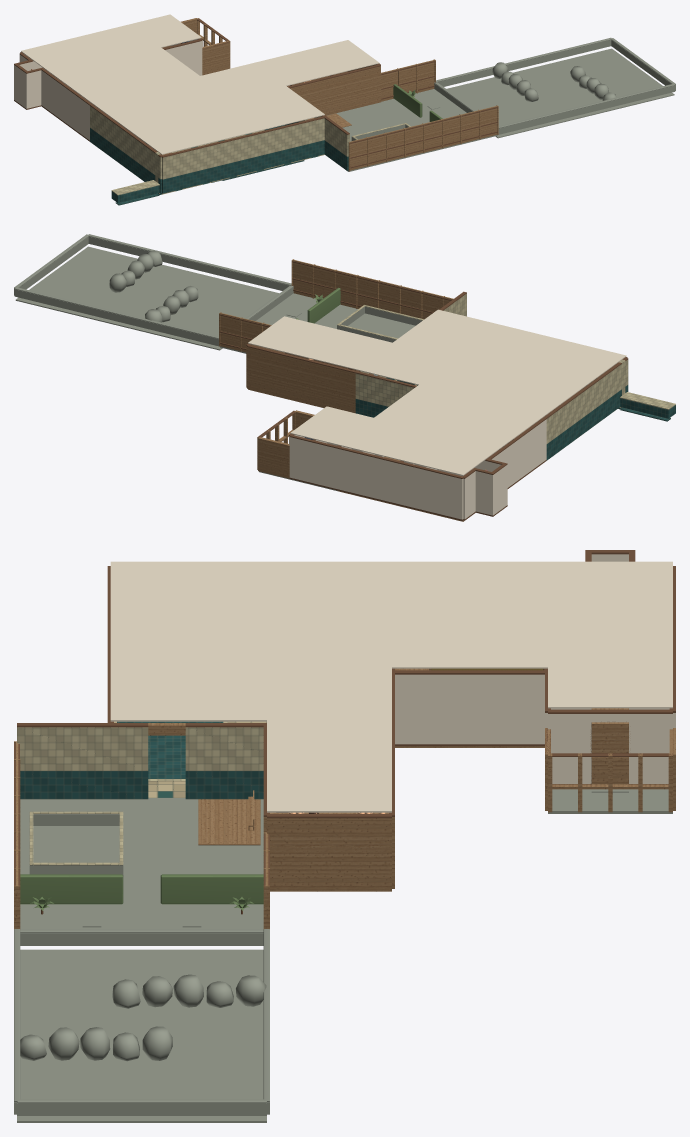
The model's file is sento_environment__growth_v02.glb.
3 renders of one model, top to bottom at view 1: azimuth 30°, elevation 25°; view 2: azimuth 150°, elevation 25°; view 3: azimuth 270°, elevation 25°, orthographic. The views are drawn at different scales.
Visible parts, largest first — view 1: environment_ceiling__warm_plaster, environment_static__garden_stone, environment_upper__ceramic_cream, environment_upper__cedar, environment_static__ceramic_teal, environment_static__cedar, environment_upper__warm_plaster, environment_upper__dark_cedar, environment_static__warm_plaster, environment_static__dark_cedar, growth_fixed_upper__cedar, environment_static__sage_foliage (+3 smaller); view 2: environment_ceiling__warm_plaster, environment_static__garden_stone, environment_upper__warm_plaster, environment_upper__cedar, environment_static__cedar, environment_static__warm_plaster, environment_upper__ceramic_cream, environment_upper__dark_cedar, environment_static__ceramic_teal, growth_fixed_upper__cedar, environment_static__dark_cedar, environment_static__sage_foliage (+2 smaller); view 3: environment_ceiling__warm_plaster, environment_static__garden_stone, environment_upper__warm_plaster, environment_upper__ceramic_cream, environment_static__ceramic_teal, environment_static__cedar, environment_upper__cedar, environment_static__sage_foliage, environment_upper__dark_cedar, environment_static__warm_plaster, growth_fixed_static__garden_stone, growth_fixed_static__cedar (+4 smaller).
Part boxes in pixels (x1,y1,x2,y2): environment_ceiling__warm_plaster: (21,14,379,154); environment_static__garden_stone: (327,37,675,171); environment_upper__ceramic_cream: (90,106,349,179); environment_upper__cedar: (31,59,498,156); environment_static__ceramic_teal: (90,121,348,205); environment_static__cedar: (47,45,498,171); environment_upper__warm_plaster: (14,39,202,127); environment_upper__dark_cedar: (14,38,497,157); environment_static__warm_plaster: (14,44,202,140); environment_static__dark_cedar: (14,75,497,168); growth_fixed_upper__cedar: (162,18,230,155); environment_static__sage_foliage: (393,84,442,121); environment_ceiling__warm_plaster: (248,309,626,475); environment_static__garden_stone: (14,234,422,490); environment_upper__warm_plaster: (289,419,546,504); environment_upper__cedar: (219,259,486,470); environment_static__cedar: (219,276,544,521); environment_static__warm_plaster: (289,441,546,519); environment_upper__ceramic_cream: (355,293,628,443); environment_upper__dark_cedar: (220,261,628,478); environment_static__ceramic_teal: (355,377,675,460); growth_fixed_upper__cedar: (257,405,559,462); environment_static__dark_cedar: (220,278,546,520); environment_static__sage_foliage: (296,287,340,323); environment_ceiling__warm_plaster: (110,561,672,812); environment_static__garden_stone: (14,798,269,1122); environment_upper__warm_plaster: (395,554,675,757); environment_upper__ceramic_cream: (17,727,263,770); environment_static__ceramic_teal: (20,721,263,799); environment_static__cedar: (14,668,628,929); environment_upper__cedar: (14,668,544,914); environment_static__sage_foliage: (20,874,263,910); environment_upper__dark_cedar: (14,550,675,888); environment_static__warm_plaster: (395,718,668,783); growth_fixed_static__garden_stone: (548,789,672,813); growth_fixed_static__cedar: (545,780,675,812).
Size of the model in its own units: 39.3 by 3.04 by 21.2.
Materials: 17 (9 with a texture image).
